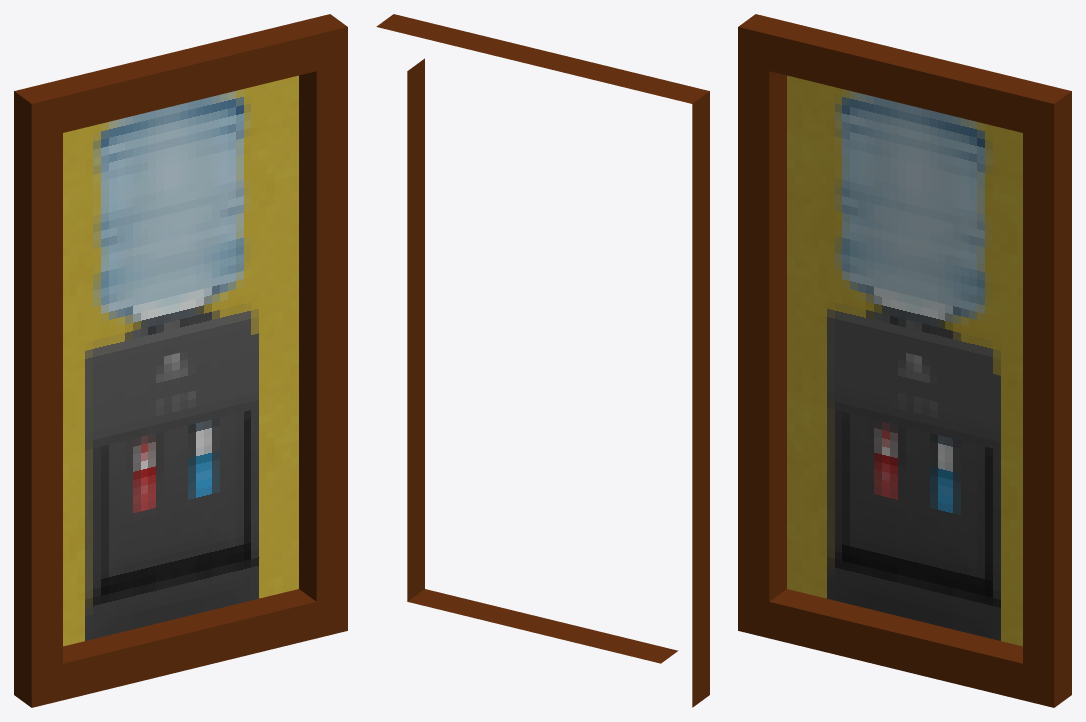
The model's file is Room13WaterCoolerPainting.glb.
3 views of the same model, side by side, from view 1: azimuth 30°, elevation 25°; view 2: azimuth 150°, elevation 25°; view 3: azimuth 330°, elevation 25° (orthographic).
Parts seen in each view (by area): view 1: Frame.006, CanvasBottom, CanvasTop; view 2: Frame.006; view 3: Frame.006, CanvasBottom, CanvasTop.
Boxes of the visible parts, x1,y1,x2,y2 form: Frame.006: (14, 14, 347, 707); CanvasBottom: (63, 323, 298, 646); CanvasTop: (63, 75, 298, 380); Frame.006: (376, 14, 709, 707); Frame.006: (738, 14, 1071, 707); CanvasBottom: (787, 323, 1022, 646); CanvasTop: (787, 75, 1022, 380).
Bounding box in the file's own units: 1.25 × 2.28 × 0.1203.
3 materials, 2 textured.
